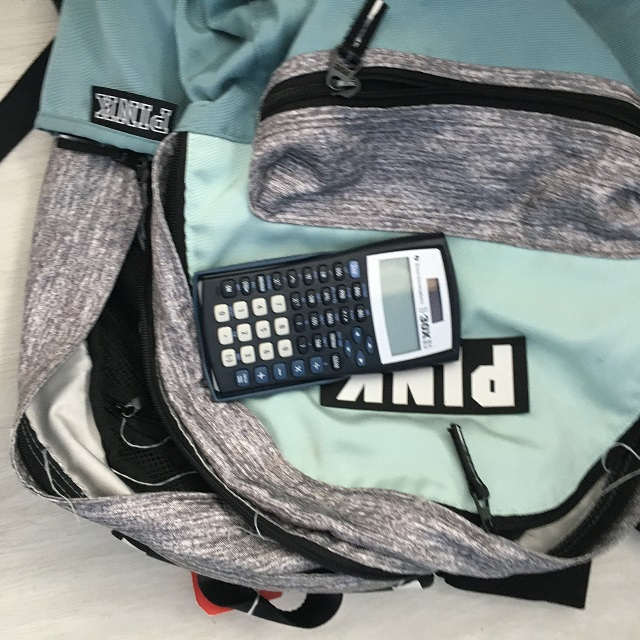calculator: (190, 231, 466, 401)
